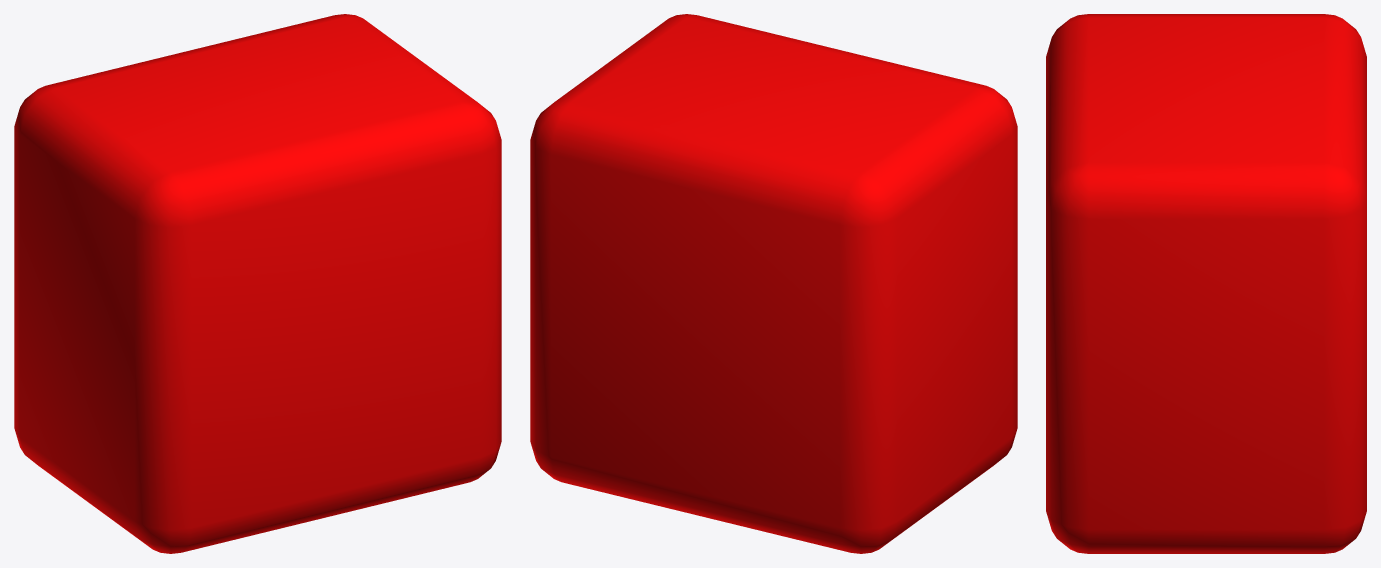
File: onSwitch.obj
3 renders of one model, left to right at view 1: azimuth 30°, elevation 25°; view 2: azimuth 150°, elevation 25°; view 3: azimuth 270°, elevation 25°, orthographic. The views are drawn at different scales.
Visible parts, largest first — view 1: ChamferBox001; view 2: ChamferBox001; view 3: ChamferBox001.
Boxes of the visible parts, bbox=[...] form: ChamferBox001: bbox=[14, 14, 501, 553]; ChamferBox001: bbox=[530, 14, 1017, 553]; ChamferBox001: bbox=[1046, 14, 1366, 553].
Size of the model in its own units: 20 by 20 by 15.
